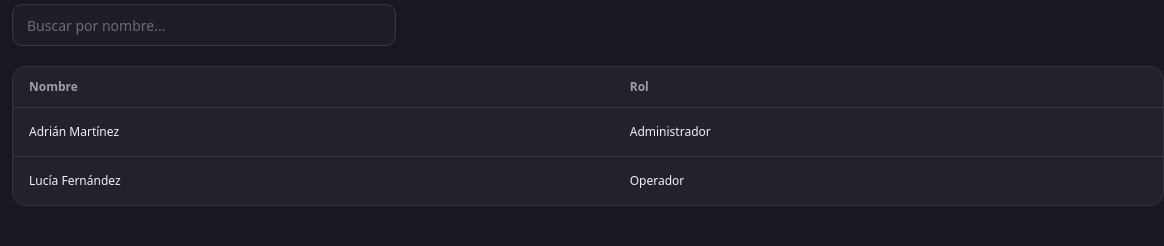
Scenario: DataTable component contract and behaviors (R6) › displays no results message when search finds no matches
The image size is (1164, 246).
Type "NoExiste" into the field labelled "Buscar por nombre...".
click(204, 25); type("NoExiste")  # box [12,4,396,46]
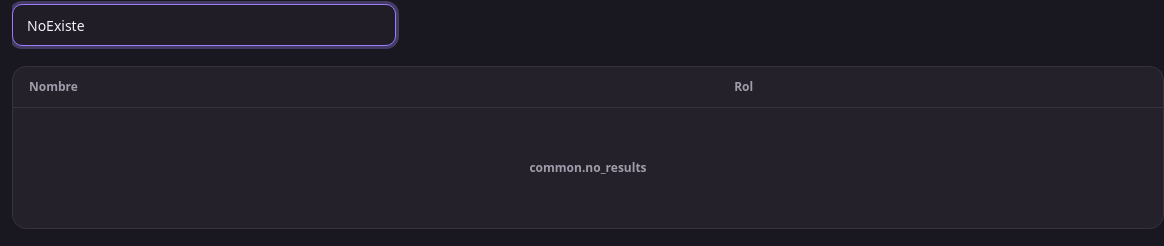
Expected: the text "common.no_results" is shown, [529,158,646,176]
Expected: the text "Adrián Martínez" is gone
